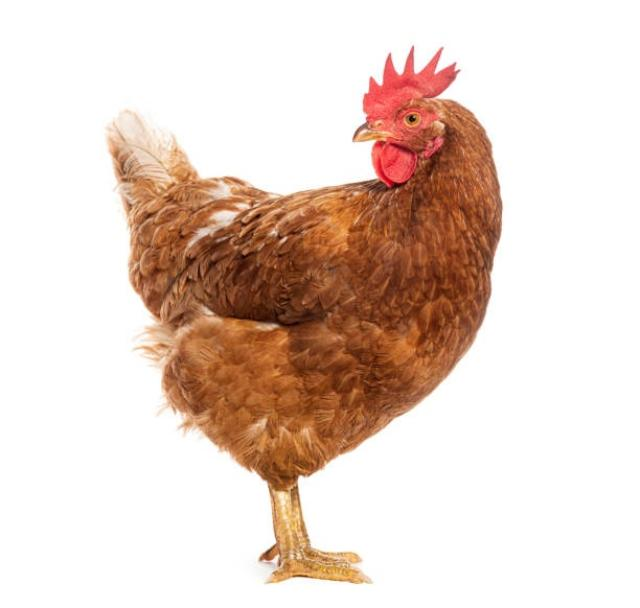Chicken: (110, 45, 503, 584)
